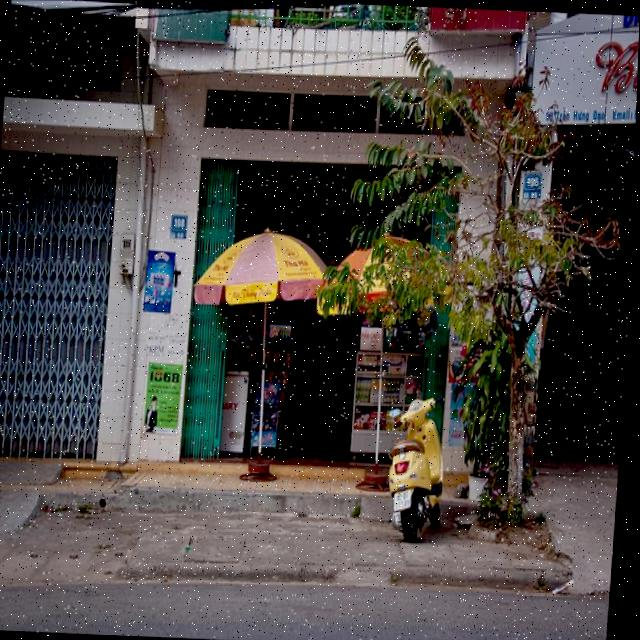motorcycle: (379, 384, 456, 545)
plate: (390, 487, 416, 511)
